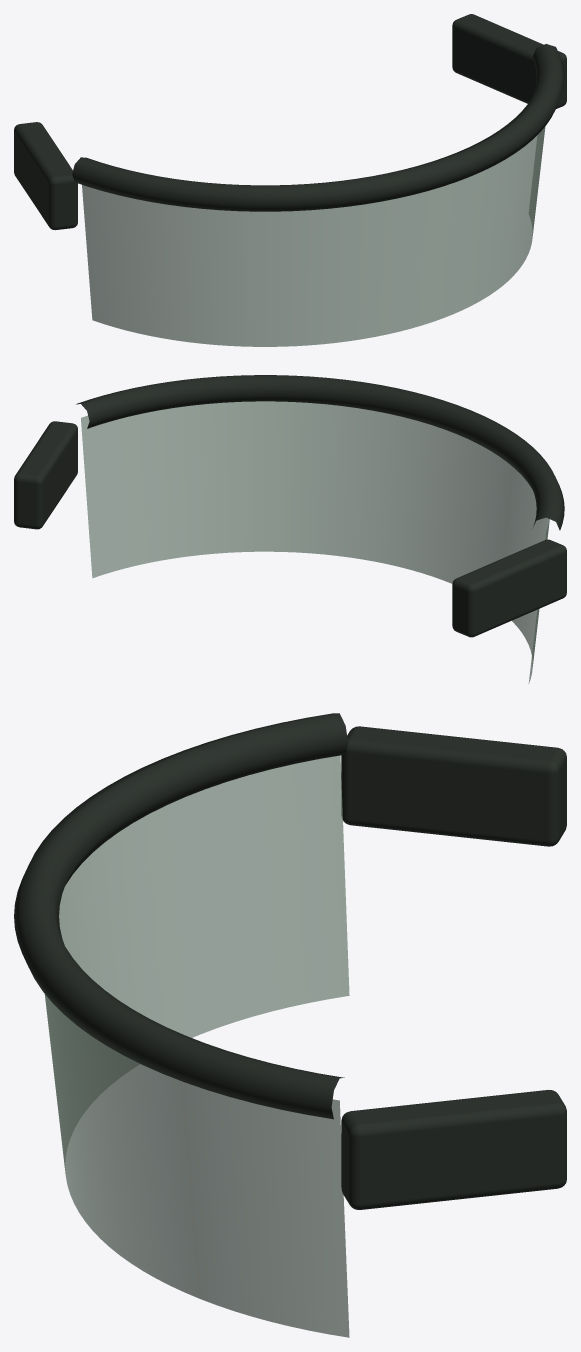
The model's file is visor.glb.
3 renders of one model, top to bottom at view 1: azimuth 30°, elevation 25°; view 2: azimuth 150°, elevation 25°; view 3: azimuth 270°, elevation 25°, orthographic. The views are drawn at different scales.
Visible parts, largest first — view 1: Demonstration lens, Lens frame, Side attachment (×2); view 2: Demonstration lens, Lens frame, Side attachment (×2); view 3: Demonstration lens, Side attachment (×2), Lens frame.
Part boxes in pixels (x1,y1,x2,y2): Demonstration lens: (82, 127, 545, 346); Lens frame: (72, 44, 564, 211); Side attachment (×2): (14, 14, 566, 230); Demonstration lens: (81, 401, 549, 683); Lens frame: (76, 375, 564, 530); Side attachment (×2): (14, 421, 566, 637); Demonstration lens: (44, 755, 349, 1337); Side attachment (×2): (341, 726, 566, 1209); Lens frame: (14, 713, 347, 1119).
Bounding box in the file's own units: 2.34 × 0.73 × 1.35.
